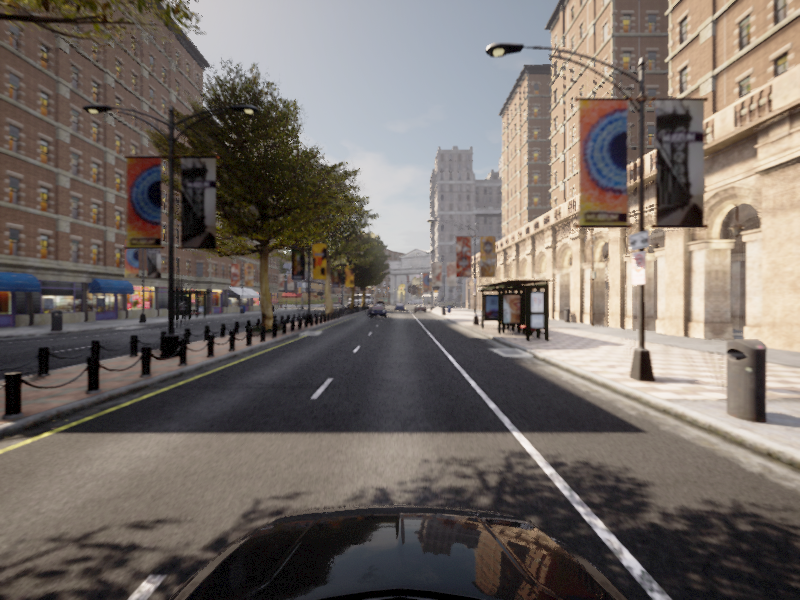vehicle: (262, 302, 277, 323), (366, 305, 387, 318)
